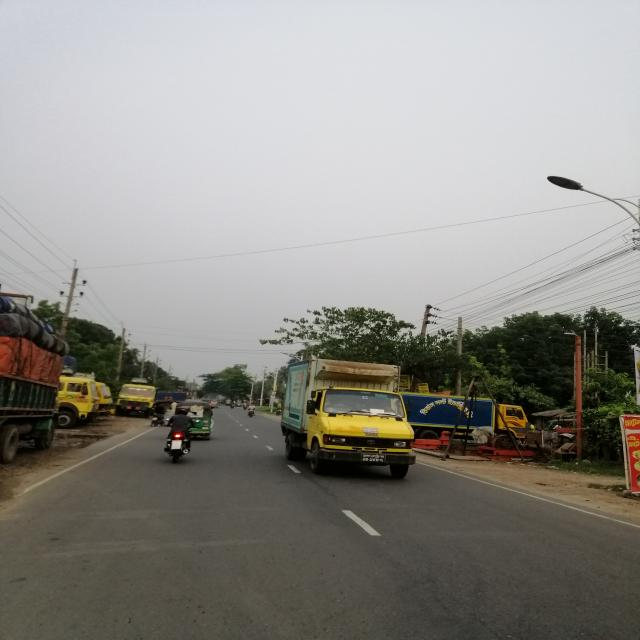Truck: (278, 360, 418, 483)
